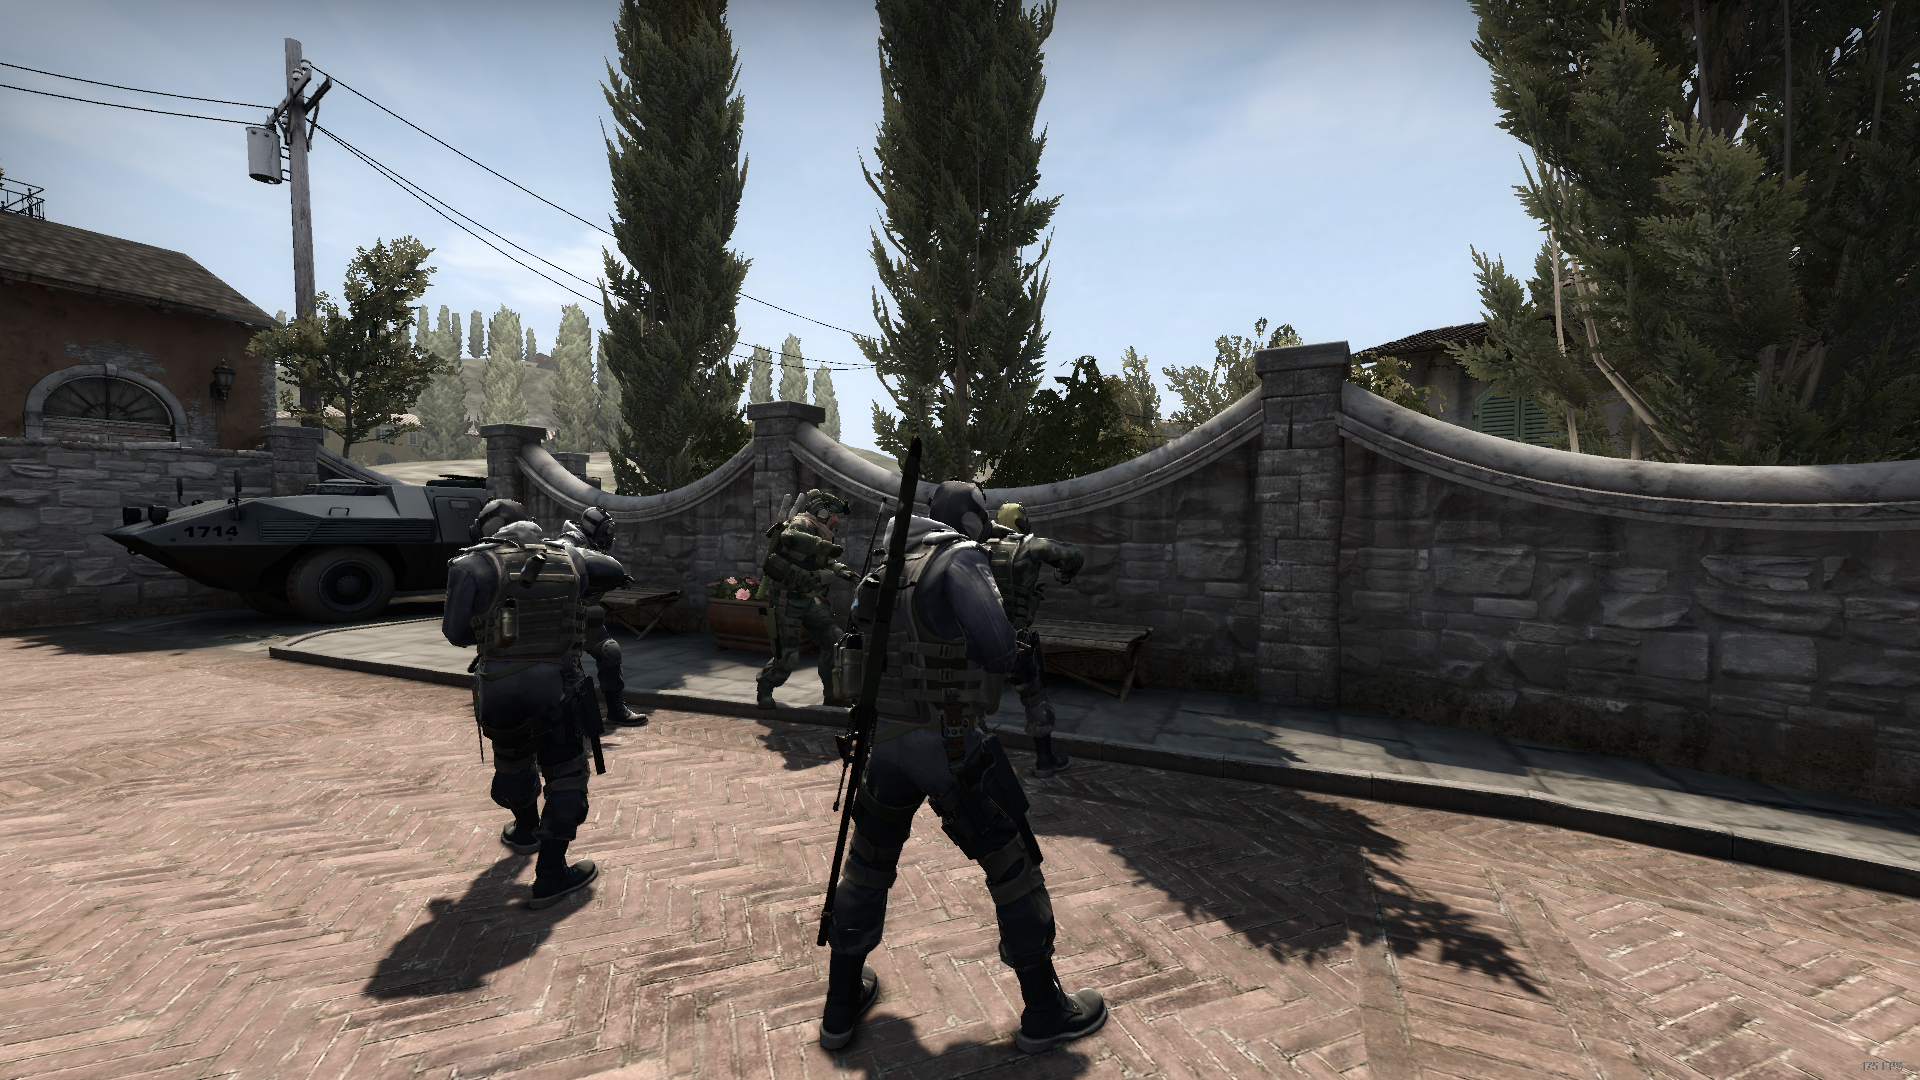ct: (811, 465, 1118, 1060), (407, 483, 612, 919)
